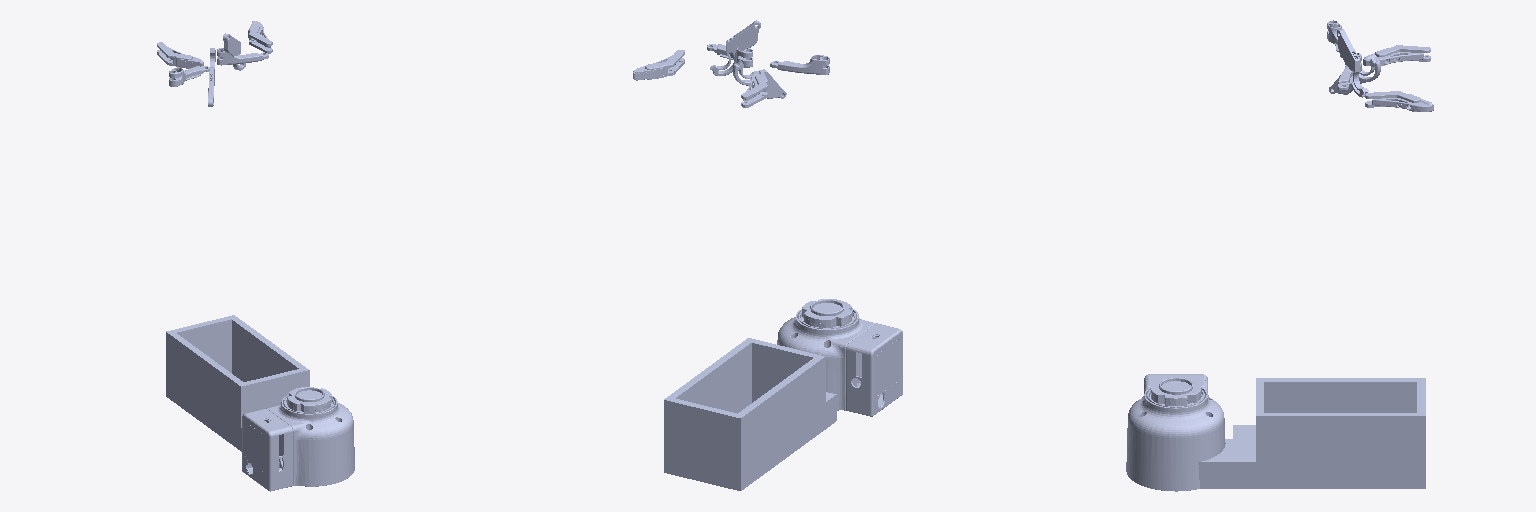
robot.urdf — firefighter:
<?xml version="1.0" encoding="utf-8" ?>
<!-- This URDF was automatically created by SolidWorks to URDF Exporter! Originally created by [author] ([email redacted]) 
     Commit Version: 1.6.0-4-g7f85cfe  Build Version: 1.6.7995.38578
     For more information, please see http://wiki.ros.org/sw_urdf_exporter -->
<robot name="firefighter">
    <link name="base">
        <inertial>
            <origin xyz="0.00864769538073963 0.0501201830062367 -0.0001269252675038" rpy="0 0 0" />
            <mass value="0.56970595235568" />
            <inertia ixx="0.000854432628304121" ixy="-2.27886028277217E-05" ixz="7.92812450025781E-08" iyy="0.00063647517455145" iyz="-1.68177277350718E-07" izz="0.000773078477351003" />
        </inertial>
        <visual>
            <origin xyz="0 0 0" rpy="0 0 0" />
            <geometry>
                <mesh filename="package://mycobot_description/meshes/base.STL" />
            </geometry>
            <material name="">
                <color rgba="0.792156862745098 0.819607843137255 0.933333333333333 1" />
            </material>
        </visual>
        <collision>
            <origin xyz="0 0 0" rpy="0 0 0" />
            <geometry>
                <mesh filename="package://mycobot_description/meshes/base.STL" />
            </geometry>
        </collision>
    </link>
    <link name="link1">
        <inertial>
            <origin xyz="-0.0229764852615092 -0.0693988337522376 -6.37776381810897E-05" rpy="0 0 0" />
            <mass value="0.301887728880534" />
            <inertia ixx="0.000350092302701137" ixy="-5.69640237858692E-05" ixz="-2.65395784957924E-07" iyy="0.000305852557006047" iyz="-3.07057068330416E-07" izz="0.000409310650724837" />
        </inertial>
        <visual>
            <origin xyz="0 0 0" rpy="0 0 0" />
            <geometry>
                <mesh filename="package://mycobot_description/meshes/link_1.STL" />
            </geometry>
            <material name="">
                <color rgba="0.792156862745098 0.819607843137255 0.933333333333333 1" />
            </material>
        </visual>
        <collision>
            <origin xyz="0 0 0" rpy="0 0 0" />
            <geometry>
                <mesh filename="package://mycobot_description/meshes/link_1.STL" />
            </geometry>
        </collision>
    </link>
    <link name="link2">
        <inertial>
            <origin xyz="3.69344307860183E-05 0.081364207071556 -0.0364962339199251" rpy="0 0 0" />
            <mass value="0.369827042467204" />
            <inertia ixx="0.00136957213034946" ixy="-4.19477008777462E-07" ixz="3.17066412374E-07" iyy="0.000219952881825987" iyz="-0.000122748918780218" izz="0.00143836489391043" />
        </inertial>
        <visual>
            <origin xyz="0 0 0" rpy="0 0 0" />
            <geometry>
                <mesh filename="package://mycobot_description/meshes/link_2.STL" />
            </geometry>
            <material name="">
                <color rgba="0.792156862745098 0.819607843137255 0.933333333333333 1" />
            </material>
        </visual>
        <collision>
            <origin xyz="0 0 0" rpy="0 0 0" />
            <geometry>
                <mesh filename="package://mycobot_description/meshes/link_2.STL" />
            </geometry>
        </collision>
    </link>
    <link name="link3">
        <inertial>
            <origin xyz="0.000128045162901544 0.0512525068477688 -0.0325120221562957" rpy="0 0 0" />
            <mass value="0.301266716820875" />
            <inertia ixx="0.000970410194369734" ixy="-2.55340572598396E-06" ixz="-7.42044375423772E-08" iyy="0.000146256044113372" iyz="9.03003451793476E-06" izz="0.00101269642178073" />
        </inertial>
        <visual>
            <origin xyz="0 0 0" rpy="0 0 0" />
            <geometry>
                <mesh filename="package://mycobot_description/meshes/link_3.STL" />
            </geometry>
            <material name="">
                <color rgba="0.792156862745098 0.819607843137255 0.933333333333333 1" />
            </material>
        </visual>
        <collision>
            <origin xyz="0 0 0" rpy="0 0 0" />
            <geometry>
                <mesh filename="package://mycobot_description/meshes/link_3.STL" />
            </geometry>
        </collision>
    </link>
    <link name="link4">
        <inertial>
            <origin xyz="0.000265082662692994 0.0334463380037113 0.0130845962740105" rpy="0 0 0" />
            <mass value="0.138639298635822" />
            <inertia ixx="0.000124610419570482" ixy="-4.93245678053435E-07" ixz="-4.88762988582506E-08" iyy="9.07985520863139E-05" iyz="-2.74497954244676E-05" izz="0.000103054238090649" />
        </inertial>
        <visual>
            <origin xyz="0 0 0" rpy="0 0 0" />
            <geometry>
                <mesh filename="package://mycobot_description/meshes/link_4.STL" />
            </geometry>
            <material name="">
                <color rgba="0.792156862745098 0.819607843137255 0.933333333333333 1" />
            </material>
        </visual>
        <collision>
            <origin xyz="0 0 0" rpy="0 0 0" />
            <geometry>
                <mesh filename="package://mycobot_description/meshes/link_4.STL" />
            </geometry>
        </collision>
    </link>
    <link name="link5">
        <inertial>
            <origin xyz="2.23278841472151E-06 0.0410281066595131 0.00683851385393441" rpy="0 0 0" />
            <mass value="0.223950798585031" />
            <inertia ixx="0.000190772660657992" ixy="1.18751021122271E-08" ixz="1.55601088172827E-08" iyy="0.000145172982922192" iyz="-1.22311890154089E-05" izz="0.000150100995836041" />
        </inertial>
        <visual>
            <origin xyz="0 0 0" rpy="0 0 0" />
            <geometry>
                <mesh filename="package://mycobot_description/meshes/link_5.STL" />
            </geometry>
            <material name="">
                <color rgba="0.792156862745098 0.819607843137255 0.933333333333333 1" />
            </material>
        </visual>
        <collision>
            <origin xyz="0 0 0" rpy="0 0 0" />
            <geometry>
                <mesh filename="package://mycobot_description/meshes/link_5.STL" />
            </geometry>
        </collision>
    </link>

    <link name="link6">
        <inertial>
            <origin xyz="-3.06995301368375E-07 0.0102162995717018 -9.99128442441544E-05" rpy="0 0 0" />
            <mass value="0.0401030543253866" />
            <inertia ixx="9.6762923694051E-06" ixy="1.0915252597982E-12" ixz="1.32278192667925E-10" iyy="1.75125666482584E-05" iyz="2.04538907434163E-08" izz="9.81088755486887E-06" />
        </inertial>
        <visual>
            <origin xyz="0 0 0" rpy="0 0 0" />
            <geometry>
                <mesh filename="package://mycobot_description/meshes/link_6.STL" />
            </geometry>
            <material name="">
                <color rgba="0.792156862745098 0.819607843137255 0.933333333333333 1" />
            </material>
        </visual>
        <collision>
            <origin xyz="0 0 0" rpy="0 0 0" />
            <geometry>
                <mesh filename="package://mycobot_description/meshes/link_6.STL" />
            </geometry>
        </collision>
    </link>

    <link name="gripper_base">
        <inertial>
            <origin xyz="-0.00798688220373683 -0.0120842301346442 0.0512045732219854" rpy="0 0 0" />
            <mass value="0.134693199067573" />
            <inertia ixx="9.16822440366729E-05" ixy="-2.26725184090963E-06" ixz="-2.52417147986972E-05" iyy="9.17248595574987E-05" iyz="2.48203691389261E-06" izz="9.15296683279762E-05" />
        </inertial>
        <visual>
            <origin xyz="0 0 0" rpy="0 0 0" />
            <geometry>
                <mesh filename="package://mycobot_description/meshes/gripper_base_cam.STL" />
            </geometry>
            <material name="">
                <color rgba="0.792156862745098 0.819607843137255 0.933333333333333 1" />
            </material>
        </visual>
        <collision>
            <origin xyz="0 0 0" rpy="0 0 0" />
            <geometry>
                <mesh filename="package://mycobot_description/meshes/gripper_base_cam.STL" />
            </geometry>
        </collision>
    </link>
    <link name="gripper_left3">
        <inertial>
            <origin xyz="-0.00355845256548371 -0.000298990677825101 -0.0278756299470882" rpy="0 0 0" />
            <mass value="0.00821077129483564" />
            <inertia ixx="2.24065862151985E-06" ixy="-1.65379908540206E-11" ixz="7.39945002380107E-11" iyy="1.90018900716357E-06" iyz="3.30309798274581E-07" izz="4.09688058940618E-07" />
        </inertial>
        <visual>
            <origin xyz="0 0 0" rpy="0 0 0" />
            <geometry>
                <mesh filename="package://mycobot_description/meshes/gripper_left3.STL" />
            </geometry>
            <material name="">
                <color rgba="0.792156862745098 0.819607843137255 0.933333333333333 1" />
            </material>
        </visual>
        <collision>
            <origin xyz="0 0 0" rpy="0 0 0" />
            <geometry>
                <mesh filename="package://mycobot_description/meshes/gripper_left3.STL" />
            </geometry>
        </collision>
    </link>
    
    <link name="gripper_left1">
        <inertial>
            <origin xyz="0.00318191031113946 0.0117963820236138 0.00342718940899311" rpy="0 0 0" />
            <mass value="0.0118729349511637" />
            <inertia ixx="1.03508703899277E-06" ixy="-1.33388291264996E-06" ixz="-1.72099398751629E-09" iyy="3.81061397749657E-06" iyz="-1.20028821999214E-09" izz="4.42845104471327E-06" />
        </inertial>
        <visual>
            <origin xyz="0 0 0" rpy="0 0 0" />
            <geometry>
                <mesh filename="package://mycobot_description/meshes/gripper_left1.STL" />
            </geometry>
            <material name="">
                <color rgba="0.792156862745098 0.819607843137255 0.933333333333333 1" />
            </material>
        </visual>
        <collision>
            <origin xyz="0 0 0" rpy="0 0 0" />
            <geometry>
                <mesh filename="package://mycobot_description/meshes/gripper_left1.STL" />
            </geometry>
        </collision>
    </link>
    
    <link name="gripper_right3">
        <inertial>
            <origin xyz="0.0278756299517241 -0.0036505192380043 -0.000298990729776474" rpy="0 0 0" />
            <mass value="0.00821077129376719" />
            <inertia ixx="4.09688058948671E-07" ixy="7.39994076310894E-11" ixz="-3.30309798252761E-07" iyy="2.2406586208928E-06" iyz="1.65430609909643E-11" izz="1.90018900652836E-06" />
        </inertial>
        <visual>
            <origin xyz="0 0 0" rpy="0 0 0" />
            <geometry>
                <mesh filename="package://mycobot_description/meshes/gripper_right3.STL" />
            </geometry>
            <material name="">
                <color rgba="0.792156862745098 0.819607843137255 0.933333333333333 1" />
            </material>
        </visual>
        <collision>
            <origin xyz="0 0 0" rpy="0 0 0" />
            <geometry>
                <mesh filename="package://mycobot_description/meshes/gripper_right3.STL" />
            </geometry>
        </collision>
    </link> 
    <link name="gripper_right1">
        <inertial>
            <origin xyz="0.0031818922963909 -0.0117963613233088 0.00352016232501318" rpy="0 0 0" />
            <mass value="0.0118729653320581" />
            <inertia ixx="1.03508912571966E-06" ixy="1.33388571859194E-06" ixz="-1.7107343747182E-09" iyy="3.81061488541789E-06" iyz="1.23293358871832E-09" izz="4.42845106710356E-06" />
        </inertial>
        <visual>
            <origin xyz="0 0 0" rpy="0 0 0" />
            <geometry>
                <mesh filename="package://mycobot_description/meshes/gripper_right1.STL" />
            </geometry>
            <material name="">
                <color rgba="0.792156862745098 0.819607843137255 0.933333333333333 1" />
            </material>
        </visual>
        <collision>
            <origin xyz="0 0 0" rpy="0 0 0" />
            <geometry>
                <mesh filename="package://mycobot_description/meshes/gripper_right1.STL" />
            </geometry>
        </collision>
    </link>

    <link name="gripper_left2">
        <inertial>
            <origin xyz="0.035135 0.004321 -0.014224" rpy="0 0 0" />
            <mass value="0.0066293" />
            <inertia ixx="3.7451E-07" ixy="-5.2455E-07" ixz="-1.8743E-07" iyy="2.2876E-06" iyz="-4.7327E-08" izz="2.3864E-06" />
        </inertial>
        <visual>
            <origin xyz="0 0 0" rpy="0 0 0" />
            <geometry>
                <mesh filename="package://mycobot_description/meshes/gripper_left2.STL" />
            </geometry>
            <material name="">
                <color rgba="0.79216 0.81961 0.93333 1" />
            </material>
        </visual>
        <collision>
            <origin xyz="0 0 0" rpy="0 0 0" />
            <geometry>
                <mesh filename="package://mycobot_description/meshes/gripper_left2.STL" />
            </geometry>
        </collision>
    </link>

    <link name="gripper_right2">
        <inertial>
            <origin xyz="0.035135 -0.004321 -0.014224" rpy="0 0 0" />
            <mass value="0.0066295" />
            <inertia ixx="3.7452E-07" ixy="5.2455E-07" ixz="-1.8744E-07" iyy="2.2876E-06" iyz="4.7323E-08" izz="2.3864E-06" />
        </inertial>
        <visual>
            <origin xyz="0 0 0" rpy="0 0 0" />
            <geometry>
                <mesh filename="package://mycobot_description/meshes/gripper_right2.STL" />
            </geometry>
            <material name="">
                <color rgba="0.79216 0.81961 0.93333 1" />
            </material>
        </visual>
        <collision>
            <origin xyz="0 0 0" rpy="0 0 0" />
            <geometry>
                <mesh filename="package://mycobot_description/meshes/gripper_right2.STL" />
            </geometry>
        </collision>
    </link>
    
    <joint name="joint2_to_joint1" type="revolute">
        <origin xyz="0 0 0.096683" rpy="-1.5708 0 -1.5708" />
        <parent link="base" />
        <child link="link1" />
        <axis xyz="0 -1 0" />
        <limit lower="-2.87" upper="2.87" effort="1000" velocity="0" />
    </joint>
    <joint name="joint3_to_joint2" type="revolute">
        <origin xyz="-0.039863 -0.078717 0" rpy="0 -1.5708 3.14" />
        <parent link="link1" />
        <child link="link2" />
        <axis xyz="0 0 -1" />
        <limit lower="-2.879" upper="2.879" effort="1000" velocity="0" />
    </joint>
    <joint name="joint4_to_joint3" type="revolute">
        <origin xyz="0 0.135 0" rpy="3.1416 0 -3.1416" />
        <parent link="link2" />
        <child link="link3" />
        <axis xyz="0 0 1" />
        <limit lower="-2.879" upper="2.879" effort="1000" velocity="0" />
    </joint>
    <joint name="joint5_to_joint4" type="revolute">
        <origin xyz="0 0.12 0" rpy="1.5708 0 -3.1416" />
        <parent link="link3" />
        <child link="link4" />
        <axis xyz="0 1 0" />
        <limit lower="-2.879" upper="2.879" effort="1000" velocity="0" />
    </joint>
    <joint name="joint6_to_joint5" type="revolute">
        <origin xyz="0 0.047817 0.044983" rpy="1.5708 0 3.1416" />
        <parent link="link4" />
        <child link="link5" />
        <axis xyz="0 1 0" />
        <limit effort = "1000.0" lower = "-2.96" upper = "2.96" velocity = "0"/>
    </joint>
        <joint name="joint6output_to_joint6" type="revolute">
        <origin xyz="0 0.049717 0.044983" rpy="1.5708 0 3.1416" />
        <parent link="link5" />
        <child link="link6" />
        <axis xyz="0 1 0" />
        <limit lower="-3.05" upper="3.05" effort="1000" velocity="0" />
    </joint>
    <joint name="joint6output_to_gripper_base" type="fixed">
        <origin xyz="0.030617 0.053717 -0.030618" rpy="0 0.7854 3.1416" />
        <parent link="link6" />
        <child link="gripper_base" />
        <axis xyz="0 0 0" />
    </joint>
    <joint name="gripper_controller" type="revolute">
        <origin xyz="0.02052 -0.033 0.048688" rpy="-2.5731 0.7854 0" />
        <parent link="gripper_base" />
        <child link="gripper_left3" />
        <axis xyz="1 0 0" />
        <limit lower="0" upper="1.0" effort="1000" velocity="0" />
    </joint>
    
    <joint name="gripper_base_to_gripper_left2" type="revolute">
        <origin xyz="0.039098 -0.010685 0.066982" rpy="-2.6409 -0.63332 -0.7463" />
        <parent link="gripper_base" />
        <child link="gripper_left2" />
        <limit effort = "1000.0" lower = "-3.141592" upper = "3.141592" velocity = "0"/>
        <axis xyz="0 0 1" />
        <mimic joint="gripper_controller" multiplier="1" offset="0" />
    </joint>
    
    <joint name="gripper_left3_to_gripper_left1" type="revolute">
        <origin xyz="0 0.009756 -0.06" rpy="-1.5708 -0.28451 1.5708" />
        <parent link="gripper_left3" />
        <child link="gripper_left1" />
        <axis xyz="0 0 1" />
        <limit lower="-3.141592" upper="3.141592" effort="0" velocity="0" />
        <mimic joint="gripper_controller" multiplier="1" offset="0" />
    </joint>
    <joint name="gripper_base_to_gripper_right3" type="revolute">
        <origin xyz="-0.0053222 -0.033 0.022714" rpy="-1.0704 0.6336 -2.3959" />
        <parent link="gripper_base" />
        <child link="gripper_right3" />
        <axis xyz="0 1 0" />
        <limit lower="-3.141592" upper="3.141592" effort="1000" velocity="0" />
        <mimic joint="gripper_controller" multiplier="-1" offset="0" />
    </joint>
    <joint name="gripper_base_to_gripper_right2" type="revolute">
        <origin xyz="-0.023682 -0.010685 0.004202" rpy="-2.6409 0.63332 -2.3953" />
        <parent link="gripper_base" />
        <child link="gripper_right2" />
        <axis xyz="0 0 1" />
        <limit effort = "1000.0" lower = "-3.141592" upper = "3.141592" velocity = "0"/>
        <mimic joint="gripper_controller" multiplier="-1" offset="0" />
    </joint>
        <joint name="gripper_right3_to_gripper_right1" type="revolute">
        <origin xyz="0.06 0 0.009756" rpy="-1.5708 -1.2863 -3.1416" />
        <parent link="gripper_right3" />
        <child link="gripper_right1" />
        <axis xyz="0 0 1" />
        <limit lower="-3.141592" upper="3.141592" effort="0" velocity="0" />
        <mimic joint="gripper_controller" multiplier="-1" offset="0" />
    </joint>

</robot>

--- What the picture shows (computed from the rendered views, not written in the file) ---
Views: 3 orthographic renders of the robot side by side, from view 1: azimuth 30°, elevation 25°; view 2: azimuth 150°, elevation 25°; view 3: azimuth 270°, elevation 25°.
Model firefighter with 14 links and 13 joints (12 revolute, 1 fixed), rooted at base, posed all joints at 0.
Visible links, largest first — view 1: base, gripper_left1; view 2: base, gripper_right3, gripper_right1, gripper_left2, gripper_left1, gripper_left3; view 3: base, gripper_right1, gripper_left1, gripper_right3.
Link boxes in pixels (left/top/right/bottom): base: left=166, top=315, right=354, bottom=491; gripper_left1: left=157, top=42, right=203, bottom=68; base: left=664, top=299, right=902, bottom=490; gripper_right3: left=710, top=20, right=760, bottom=75; gripper_right1: left=633, top=50, right=684, bottom=80; gripper_left2: left=770, top=55, right=829, bottom=74; gripper_left1: left=741, top=70, right=767, bottom=107; gripper_left3: left=733, top=60, right=786, bottom=98; base: left=1126, top=374, right=1425, bottom=491; gripper_right1: left=1365, top=91, right=1433, bottom=111; gripper_left1: left=1363, top=45, right=1430, bottom=65; gripper_right3: left=1337, top=29, right=1368, bottom=97.
Bounding box of the posed robot: 0.2025 × 0.361 × 0.5632 m (x, y, z).
Meshes: 14 distinct files referenced, 7 mesh visuals loaded (7 binary STL); not drawn: 7 (reference not matched to a file when rendering).